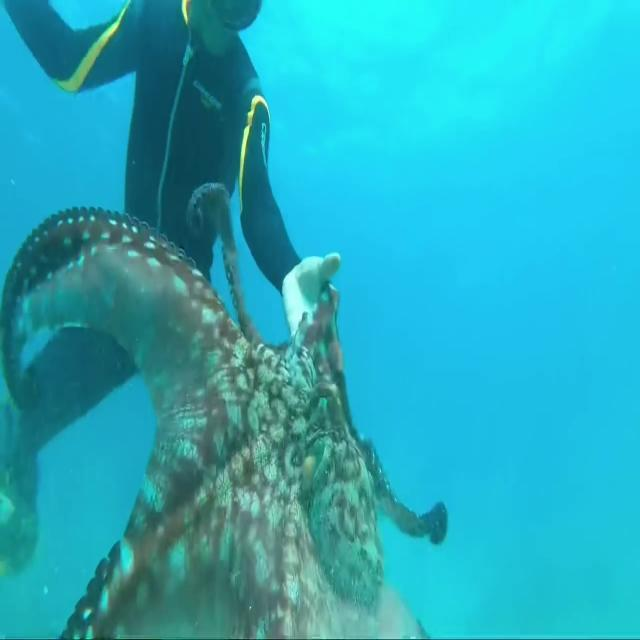octopus: (0, 179, 451, 640)
